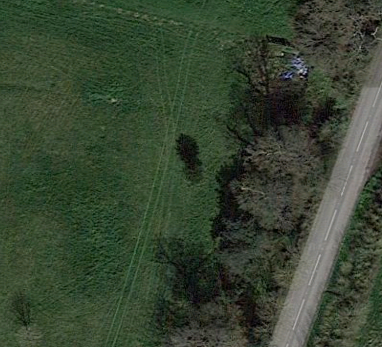tree: (175, 155, 214, 192), (8, 314, 43, 347)
